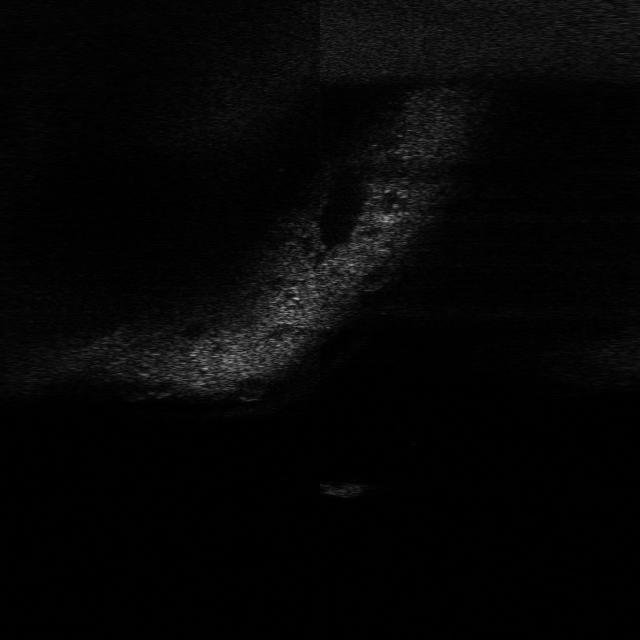cube: (313, 477, 372, 499)
